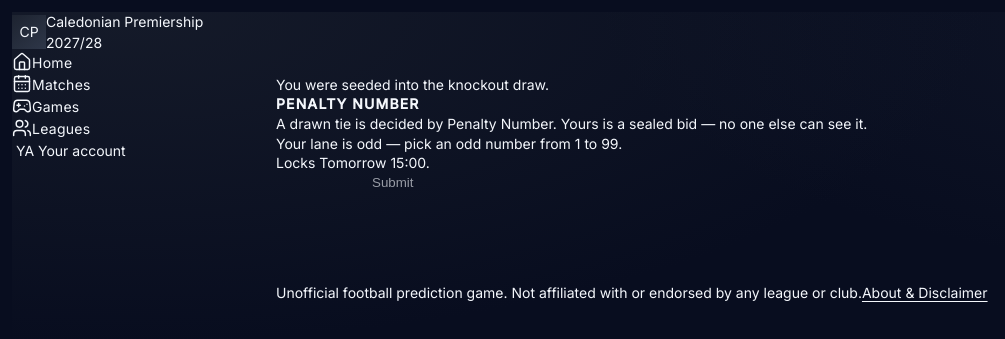
Test: the one intent this screen can emit › says the round was reloaded on a version conflict
Type "7" into the field named "Your Penalty Number". click: point(324, 183)
box: top-left (276, 175), bottom-right (372, 191)
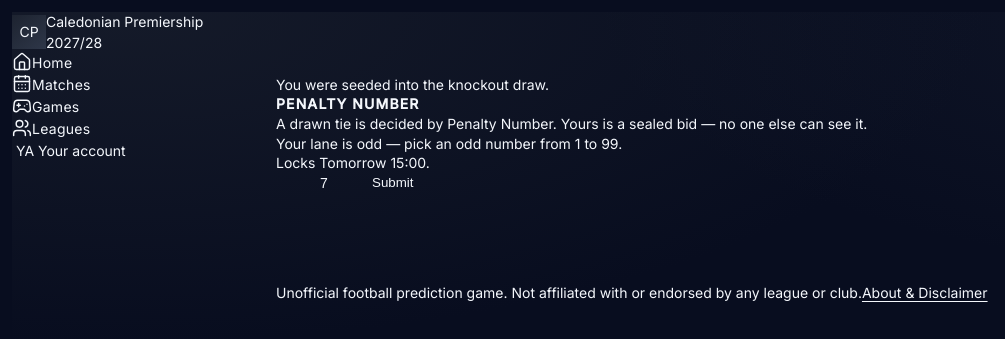
Click the button "Submit". click: point(393, 182)
box: top-left (372, 175), bottom-right (414, 190)
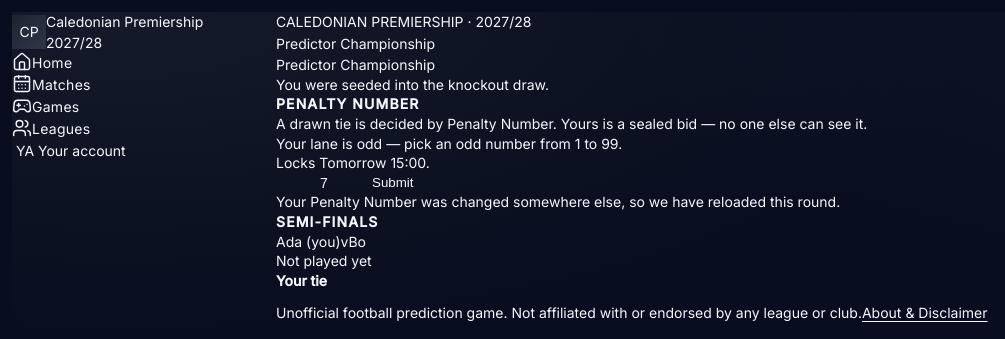
expect the text "changed somewhere else" is shown: met, box top-left (276, 193), bottom-right (840, 210)
